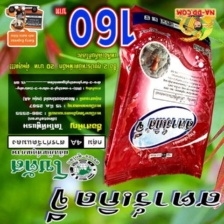insecticide: (100, 1, 217, 188)
